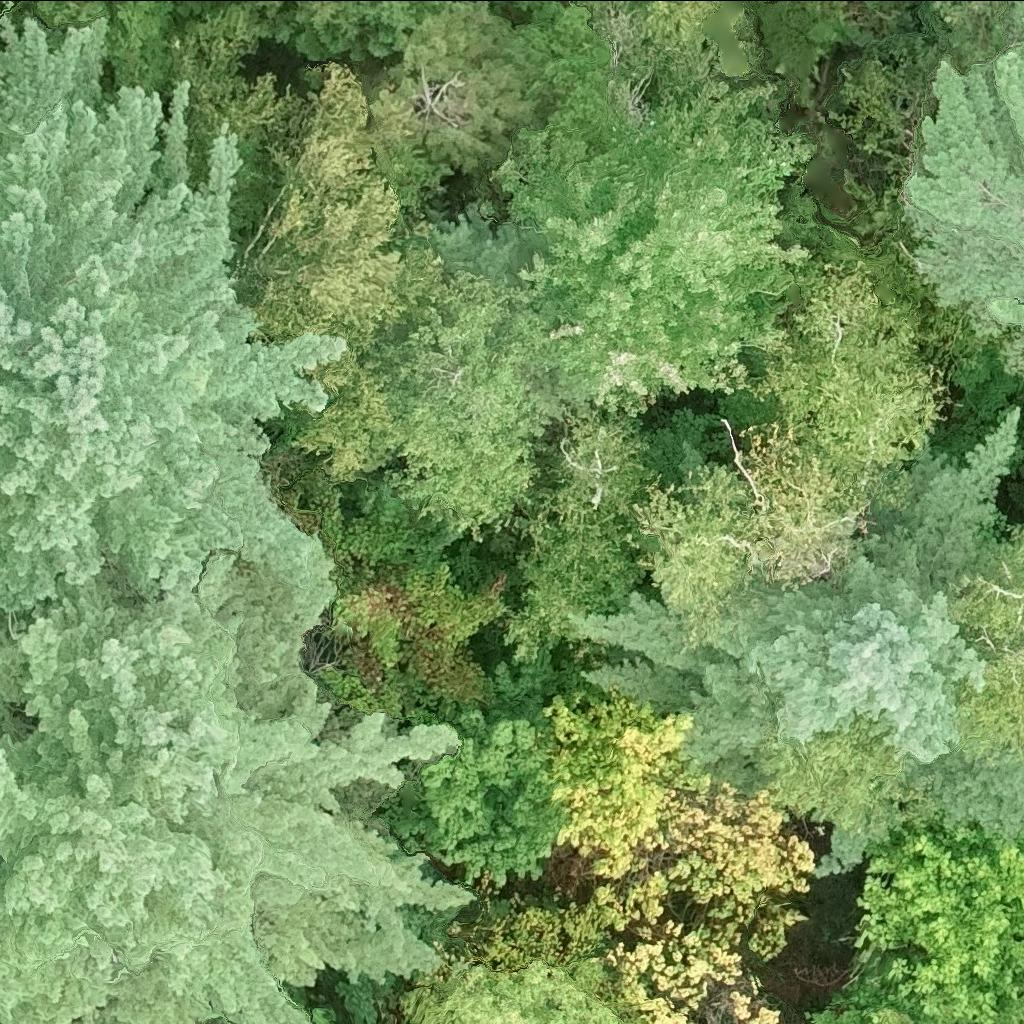crown: (0, 545, 467, 1023), (0, 18, 341, 603), (576, 408, 1023, 836), (497, 79, 814, 414), (246, 223, 574, 546), (543, 691, 811, 1023), (643, 422, 875, 626), (232, 62, 399, 322), (910, 0, 1023, 376), (761, 264, 948, 490), (503, 420, 669, 669), (854, 806, 1023, 1018), (394, 703, 567, 884), (364, 0, 537, 172), (759, 709, 908, 824), (946, 538, 1023, 744), (217, 0, 468, 62), (560, 0, 713, 95), (384, 962, 616, 1023), (806, 968, 1023, 1023), (933, 0, 1021, 64), (37, 0, 106, 14), (1009, 529, 1023, 540)
